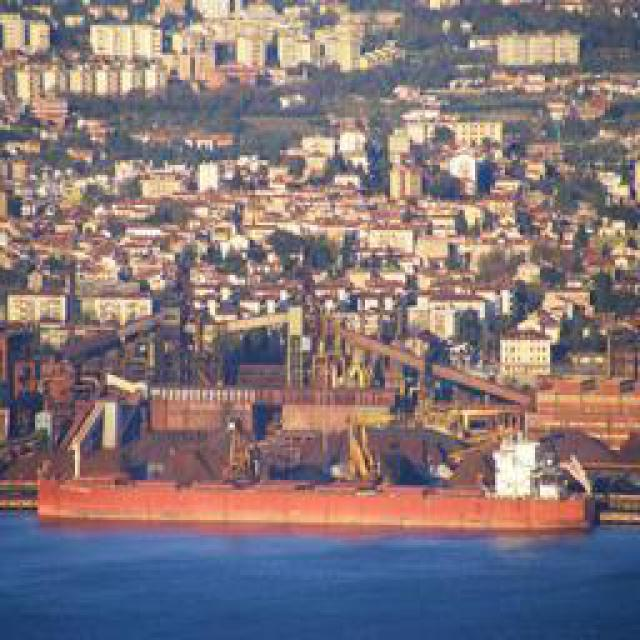Ship: (21, 437, 591, 539)
